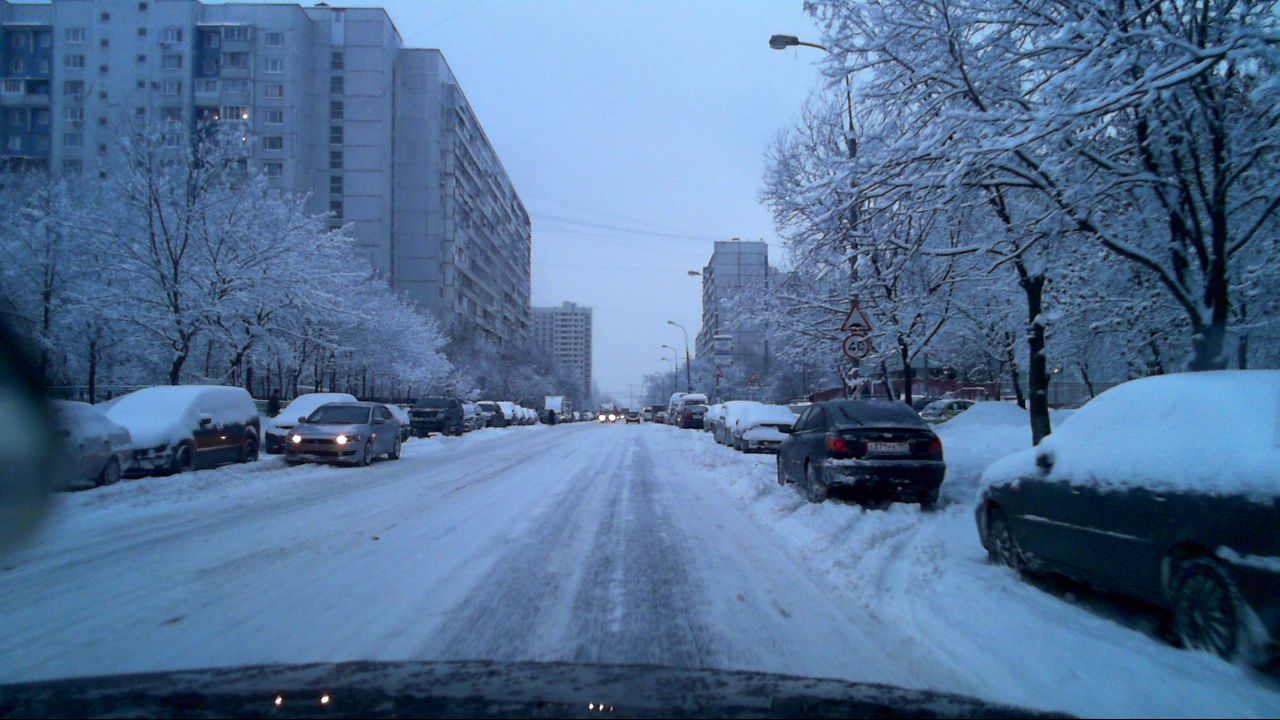speed_warning_40: (842, 332, 870, 361)
